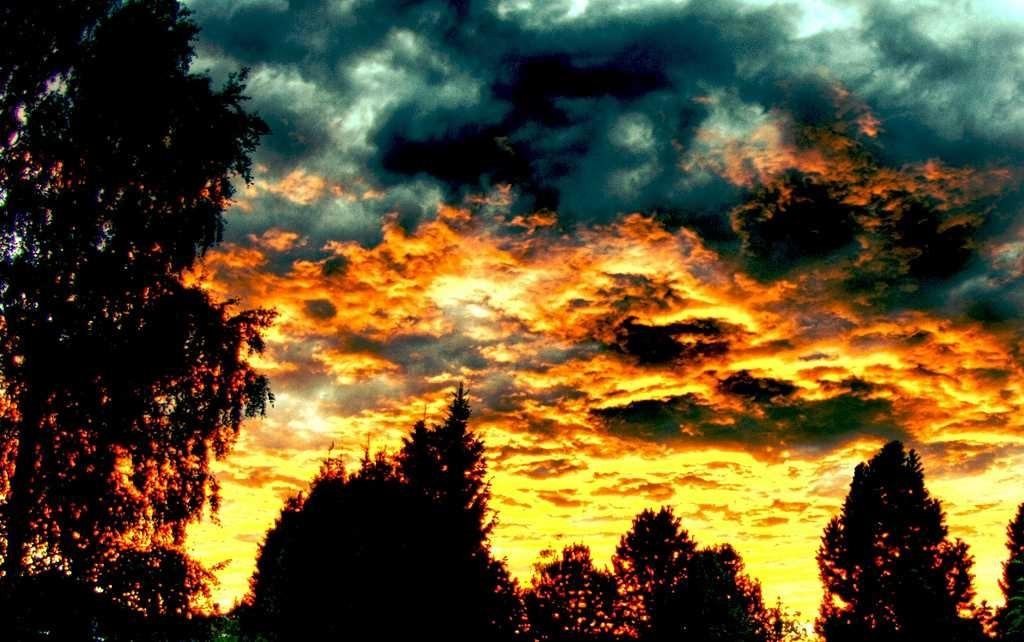fire: (520, 472, 632, 532), (832, 343, 948, 395), (340, 270, 433, 330), (213, 487, 275, 562), (713, 473, 795, 527), (703, 300, 768, 340), (550, 270, 590, 318), (255, 278, 317, 308)
